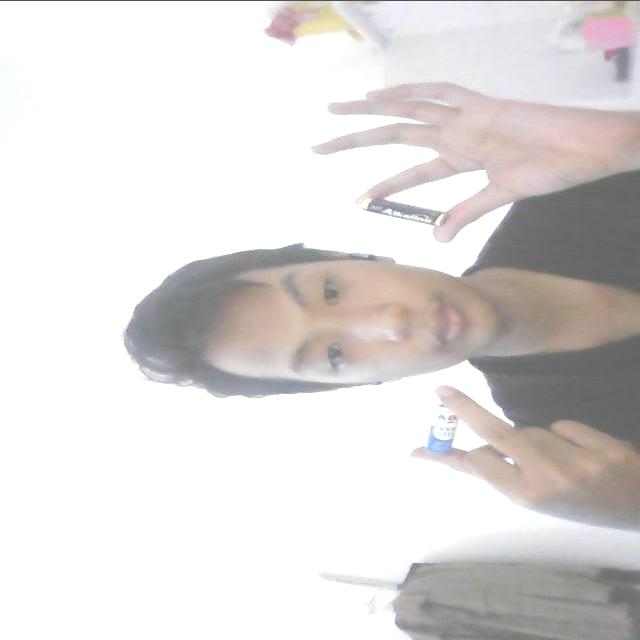AA: (423, 400, 468, 460)
AAA: (354, 189, 458, 221)
